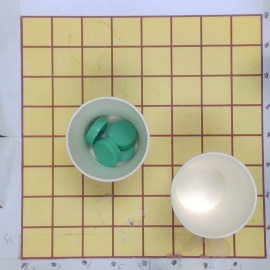cup: (170, 152, 257, 237)
cup_green: (67, 97, 151, 183)
